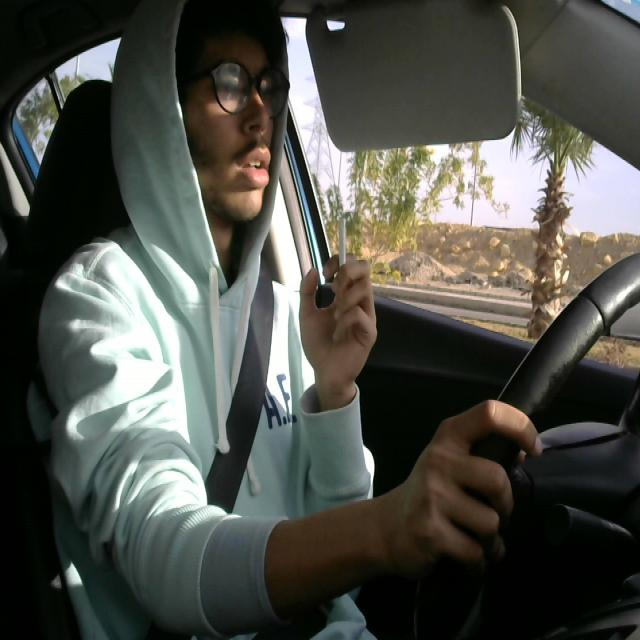smoking: (334, 215, 354, 300)
